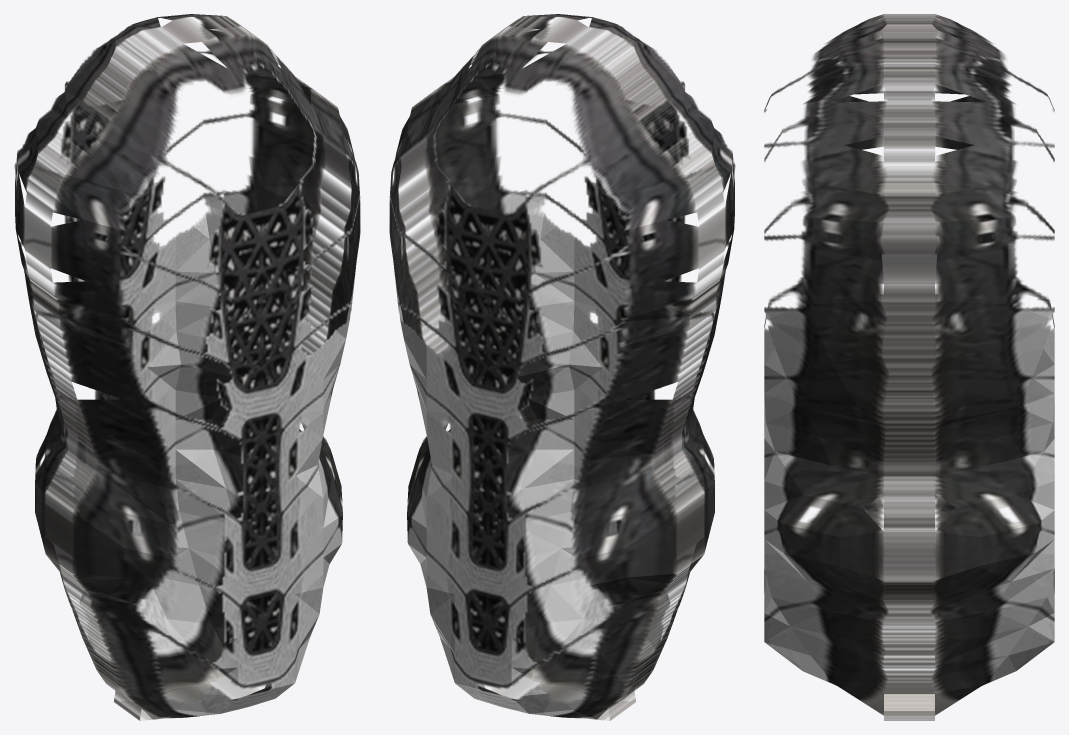
The model's file is sidi-circuit-back-protector-149.glb.
3 renders of one model, left to right at view 1: azimuth 30°, elevation 25°; view 2: azimuth 150°, elevation 25°; view 3: azimuth 270°, elevation 25°, orthographic.
Visible parts, largest first — view 1: world; view 2: world; view 3: world.
Boxes of the visible parts, bbox=[...] form: world: bbox=[14, 14, 360, 720]; world: bbox=[389, 14, 735, 720]; world: bbox=[764, 14, 1054, 720].
Size of the model in its own units: 0.469 by 1 by 0.4.
Materials: 1 (1 with a texture image).
